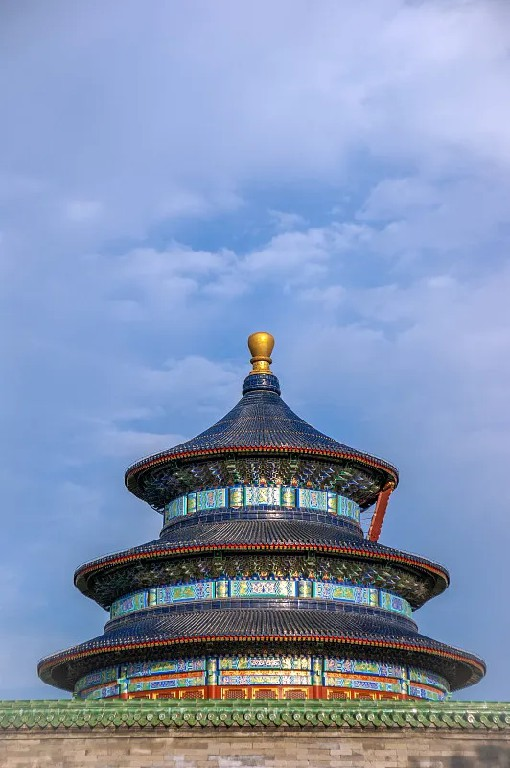Heaven: (37, 331, 487, 701)
